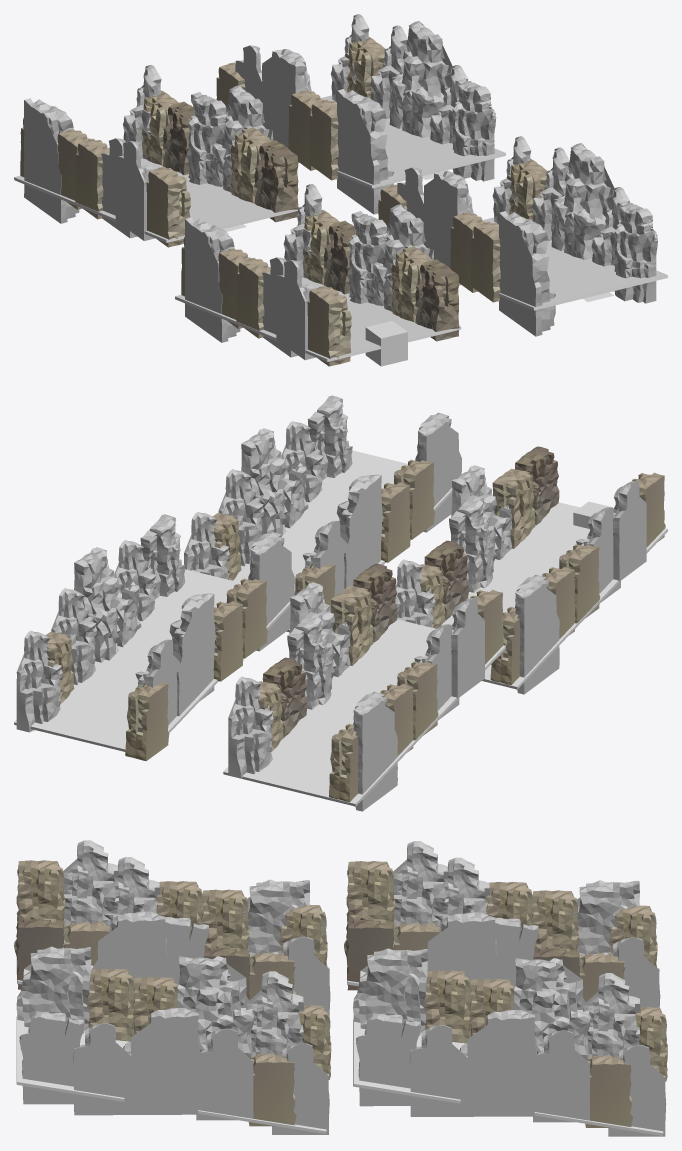
Rendered from AAAAALevel1TEST_PROSZE_DZIALAJ.fbx.
The picture shows the model from 3 angles, top to bottom: view 1: azimuth 30°, elevation 25°; view 2: azimuth 150°, elevation 25°; view 3: azimuth 270°, elevation 25°; orthographic projection. The views are drawn at different scales.
Visible parts, largest first — view 1: skalka pionowa 2.184, skalka pionowa 2.185, skalka pionowa 1.097, skalka pionowa 1.100, skalka pionowa 2.183, skalka pionowa 2.182, skalka pionowa XL 1.189, Ground.099, skalka pionowa XL 1.190, Ground.100, Ground.101, skalka pionowa 1.099 (+43 smaller); view 2: Ground.100, Ground.101, Ground.098, skalka pionowa 1.100, skalka pionowa 1.097, Ground.099, skalka pionowa 1.099, skalka pionowa 2.182, skalka pionowa 2.183, skalka pionowa 1.098, skalka pionowa XL 2.352, skalka pionowa XL 2.353 (+44 smaller); view 3: skalka pionowa 1.100, skalka pionowa 1.097, skalka pionowa 1.098, skalka pionowa 1.099, skalka pionowa 2.184, skalka pionowa 2.185, skalka pionowa XL 1.189, skalka pionowa XL 1.190, skalka pionowa XL 2.348, skalka pionowa XL 2.356, skalka pionowa XL 2.355, skalka pionowa XL 2.349 (+42 smaller).
Boxes of the visible parts, bbox=[...] form: skalka pionowa 2.184: bbox=[499, 211, 555, 336]; skalka pionowa 2.185: bbox=[337, 89, 393, 214]; skalka pionowa 1.097: bbox=[551, 143, 614, 259]; skalka pionowa 1.100: bbox=[389, 21, 452, 137]; skalka pionowa 2.183: bbox=[24, 98, 79, 223]; skalka pionowa 2.182: bbox=[185, 217, 240, 342]; skalka pionowa XL 1.189: bbox=[613, 200, 657, 303]; Ground.099: bbox=[482, 217, 667, 310]; skalka pionowa XL 1.190: bbox=[451, 78, 496, 181]; Ground.100: bbox=[14, 158, 299, 242]; Ground.101: bbox=[320, 95, 505, 188]; skalka pionowa 1.099: bbox=[258, 49, 311, 162]; Ground.100: bbox=[223, 619, 506, 806]; Ground.101: bbox=[14, 569, 290, 751]; Ground.098: bbox=[441, 502, 667, 689]; skalka pionowa 1.100: bbox=[74, 547, 141, 662]; skalka pionowa 1.097: bbox=[241, 428, 308, 536]; Ground.099: bbox=[233, 450, 452, 632]; skalka pionowa 1.099: bbox=[148, 593, 215, 715]; skalka pionowa 2.182: bbox=[515, 574, 559, 694]; skalka pionowa 2.183: bbox=[353, 691, 397, 811]; skalka pionowa 1.098: bbox=[315, 474, 382, 588]; skalka pionowa XL 2.352: bbox=[228, 676, 273, 778]; skalka pionowa XL 2.353: bbox=[16, 630, 62, 732]; skalka pionowa 1.100: bbox=[459, 1010, 536, 1116]; skalka pionowa 1.097: bbox=[123, 1008, 200, 1114]; skalka pionowa 1.098: bbox=[177, 956, 254, 1058]; skalka pionowa 1.099: bbox=[514, 958, 591, 1059]; skalka pionowa 2.184: bbox=[16, 946, 91, 1033]; skalka pionowa 2.185: bbox=[353, 948, 427, 1035]; skalka pionowa XL 1.189: bbox=[19, 1012, 84, 1104]; skalka pionowa XL 1.190: bbox=[356, 1014, 420, 1106]; skalka pionowa XL 2.348: bbox=[196, 1028, 253, 1120]; skalka pionowa XL 2.356: bbox=[533, 1030, 589, 1122]; skalka pionowa XL 2.355: bbox=[409, 1025, 467, 1116]; skalka pionowa XL 2.349: bbox=[73, 1023, 131, 1115].
Size of the model in its own units: 2597 by 969 by 4160.
